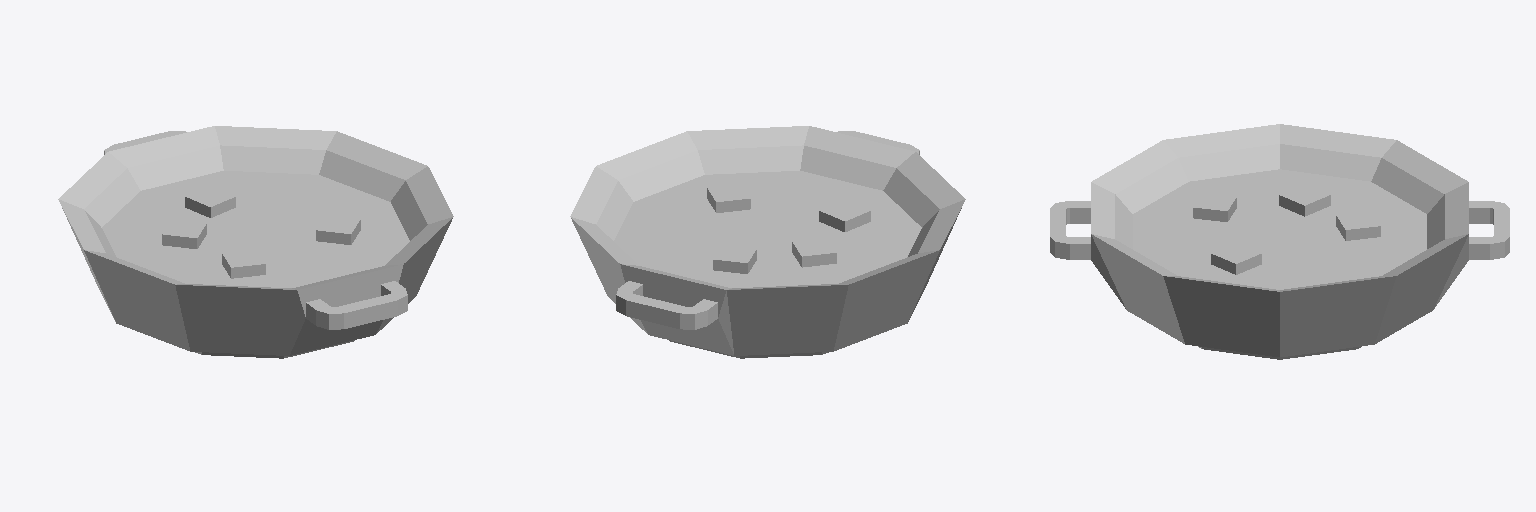
Rendered from pan-stew.obj.
The picture shows the model from 3 angles: view 1: azimuth 30°, elevation 25°; view 2: azimuth 150°, elevation 25°; view 3: azimuth 270°, elevation 25°; orthographic projection.
Parts seen in each view (by area): view 1: pan-stew; view 2: pan-stew; view 3: pan-stew.
Boxes of the visible parts, box(x1,y1,x2,y2) form: pan-stew: box(58, 126, 453, 358); pan-stew: box(570, 126, 965, 358); pan-stew: box(1050, 124, 1509, 359).
Size of the model in its own units: 0.6574 by 0.1753 by 0.7621.